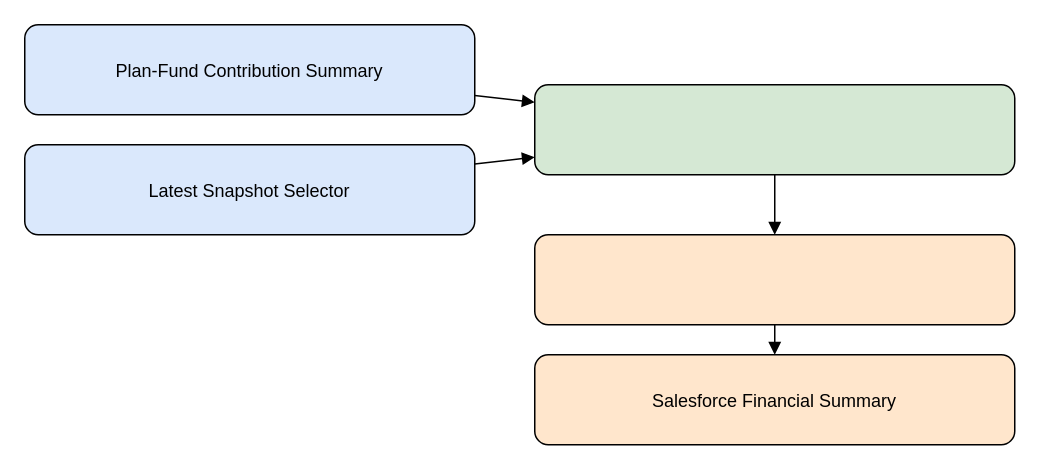
The diagram is 1040 pixels wide and 470 high, and some of its shapes have lost their labels. The shapes that lost their labels are listed below. From the top down, each one's box as (x1, y1, x2, y2) in pixels, then its label:
(533, 83, 1015, 175): Outbound Contribution View
(533, 233, 1015, 325): Salesforce Contract
